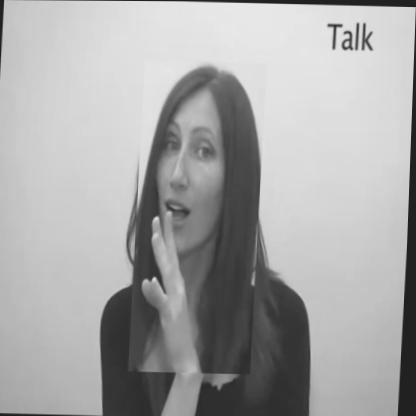Talk: (130, 60, 267, 374)
